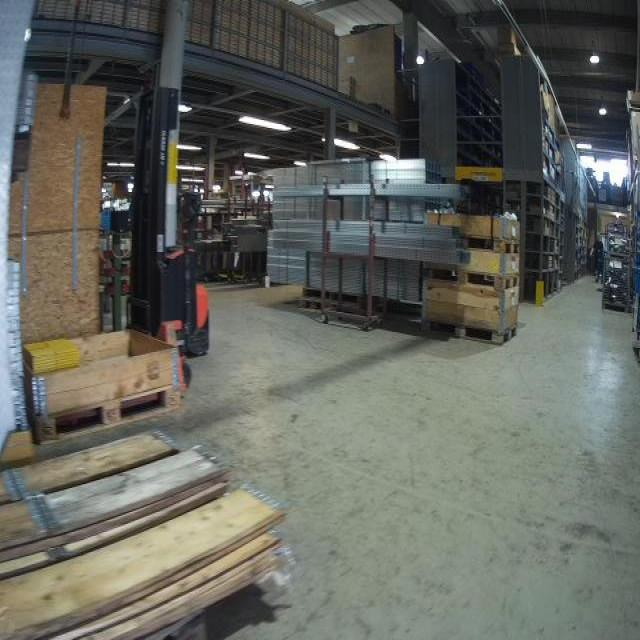pallet: (36, 383, 183, 445), (422, 318, 518, 346), (423, 266, 520, 291), (463, 234, 521, 255)
pallet_truck: (103, 78, 226, 356), (136, 188, 207, 406)
stillage: (595, 261, 637, 318), (600, 212, 633, 259)
